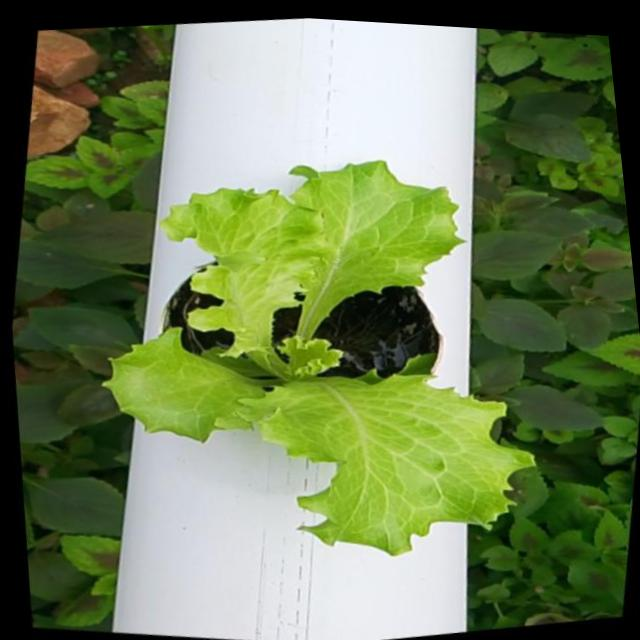Baby: (92, 165, 521, 557)
